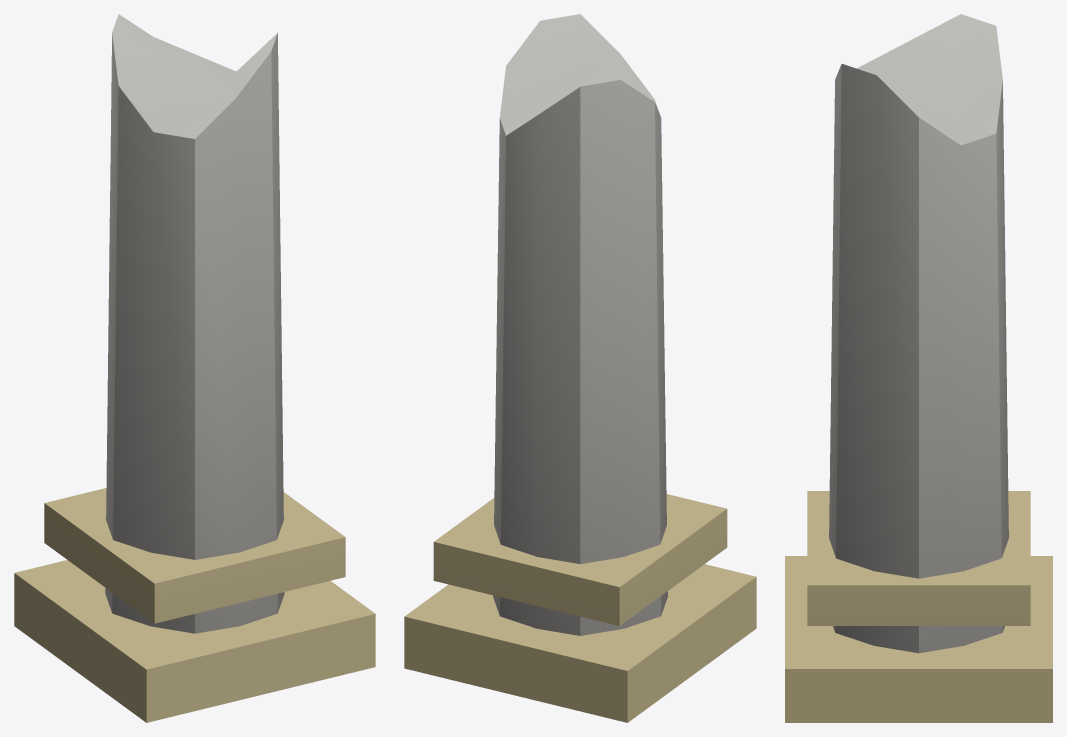
Rendered from prop_pillar.glb.
3 renders of one model, left to right at view 1: azimuth 30°, elevation 25°; view 2: azimuth 150°, elevation 25°; view 3: azimuth 270°, elevation 25°, orthographic. The views are drawn at different scales.
Parts seen in each view (by area): view 1: prop_pillar; view 2: prop_pillar; view 3: prop_pillar.
Boxes of the visible parts, <box> form: prop_pillar: <box>14,14,375,722</box>; prop_pillar: <box>404,14,756,722</box>; prop_pillar: <box>785,14,1052,722</box>.
Bounding box in the file's own units: 0.36 × 0.922 × 0.36.
